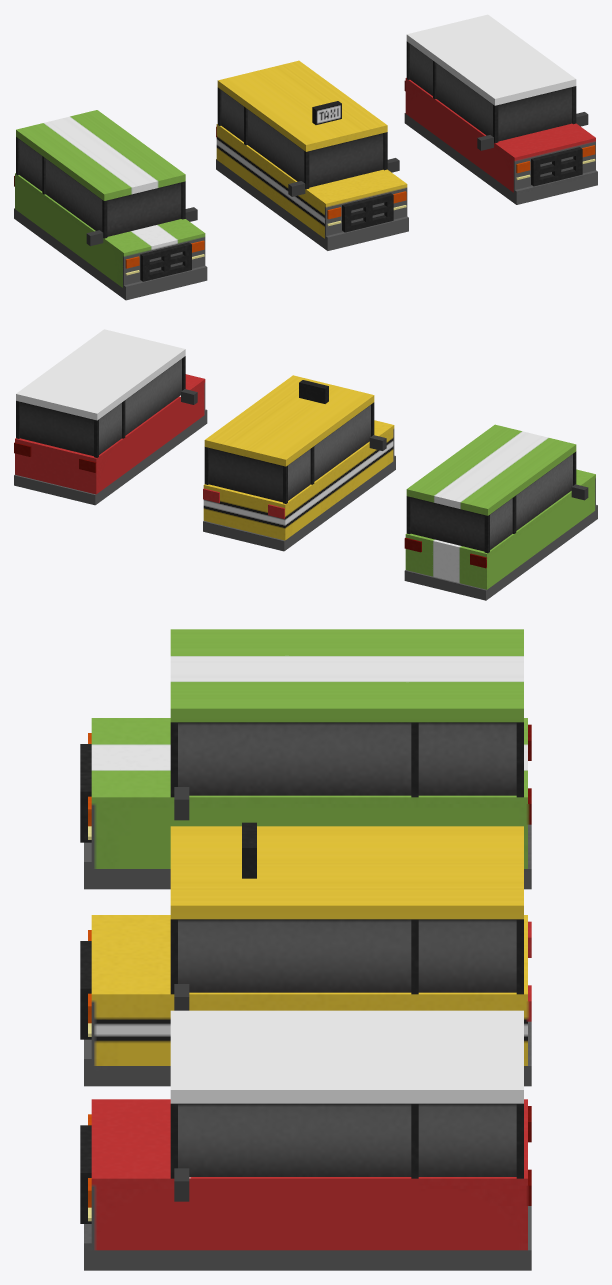
The model's file is Vehicles_04.fbx.
3 renders of one model, top to bottom at view 1: azimuth 30°, elevation 25°; view 2: azimuth 150°, elevation 25°; view 3: azimuth 270°, elevation 25°, orthographic. The views are drawn at different scales.
Parts seen in each view (by area): view 1: Car_02, Car_03, Car_01; view 2: Car_02, Car_01, Car_03; view 3: Car_03, Car_01, Car_02.
Part boxes in pixels (left/top/right/bottom): Car_02: left=216, top=60, right=408, bottom=250; Car_03: left=404, top=14, right=597, bottom=204; Car_01: left=14, top=110, right=207, bottom=300; Car_02: left=203, top=375, right=395, bottom=551; Car_01: left=404, top=424, right=597, bottom=600; Car_03: left=14, top=329, right=207, bottom=505; Car_03: left=80, top=1010, right=531, bottom=1270; Car_01: left=80, top=629, right=531, bottom=889; Car_02: left=80, top=822, right=531, bottom=1086.
Bounding box in the file's own units: 306 × 62 × 120.
